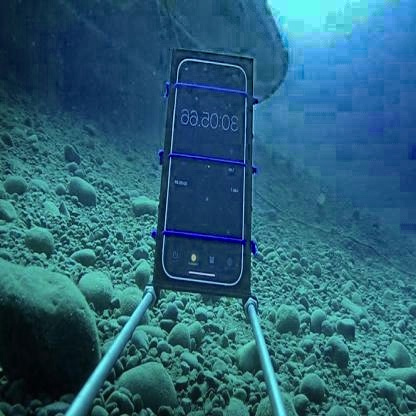cellphone: (161, 57, 248, 286)
